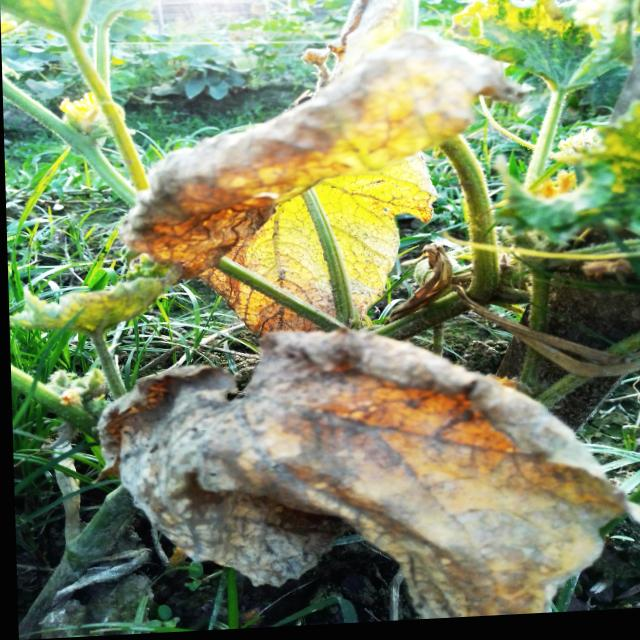Bacterial-Wilt: (85, 329, 631, 622), (116, 0, 537, 342)
